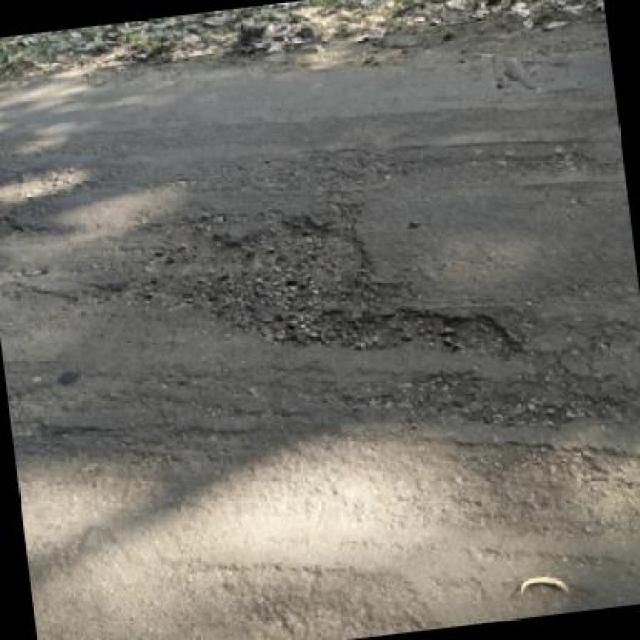pothole1: (72, 174, 526, 414), (0, 208, 29, 250)
